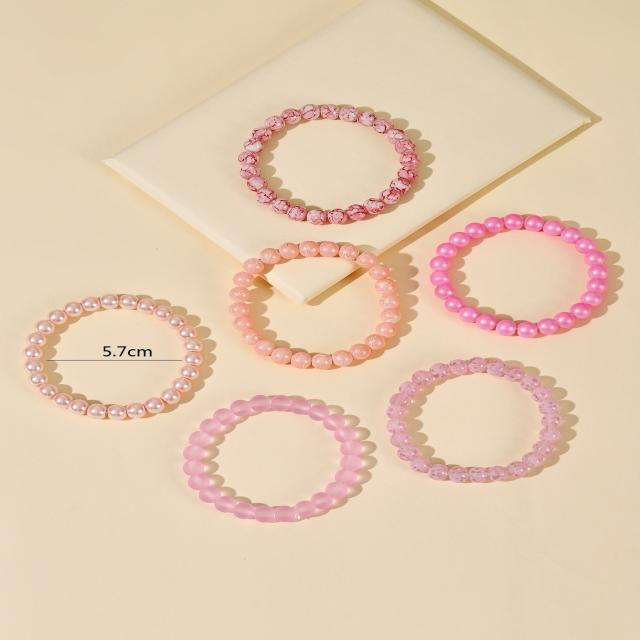bracelet: (217, 72, 466, 244), (150, 374, 392, 539), (380, 344, 598, 512), (206, 235, 444, 378), (21, 279, 224, 426), (430, 199, 640, 341)
